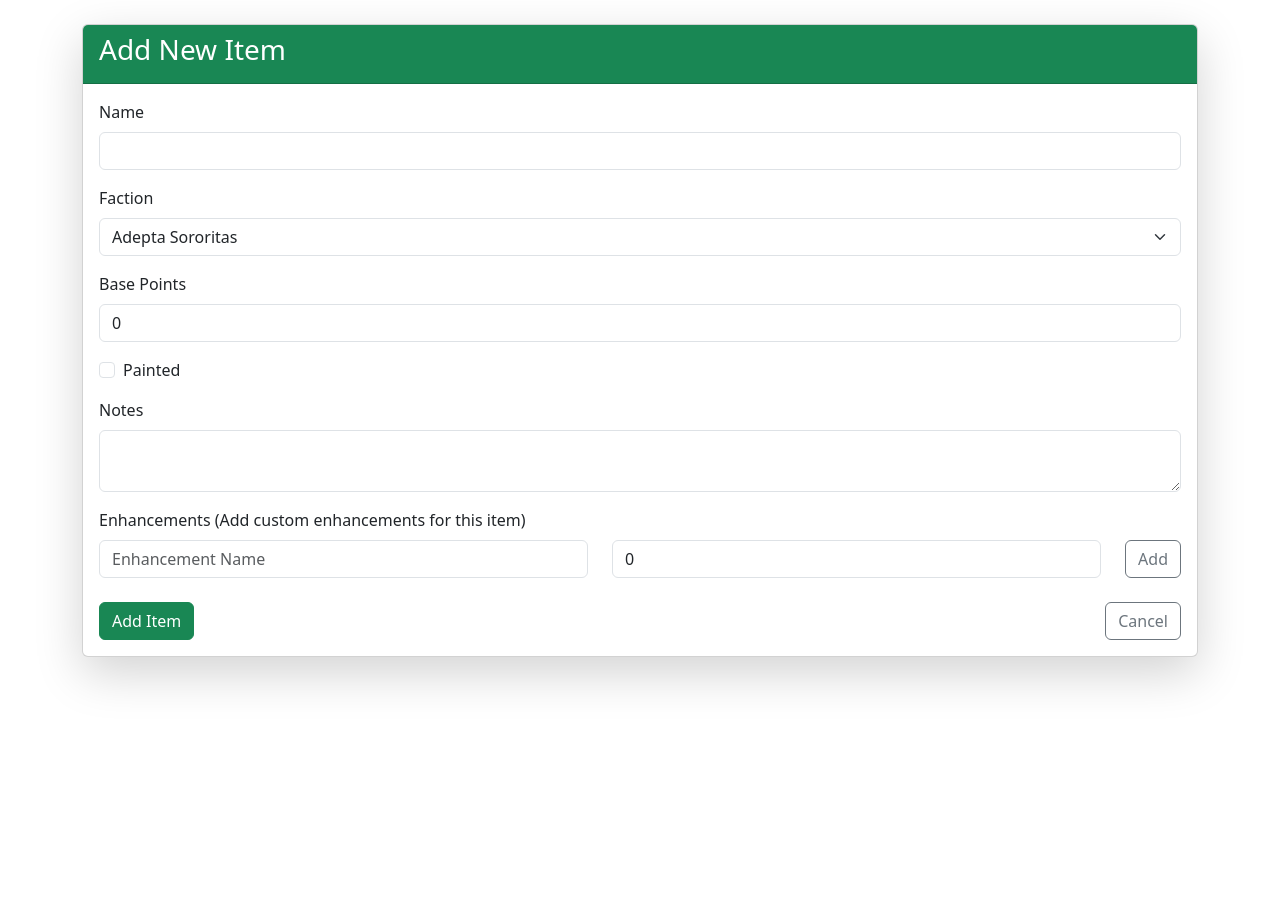
AddItemForm › can add enhancements
# Add first enhancement
Type "Power Sword" into the field with placeholder "Enhancement Name".
click(344, 559); type("Power Sword")  # box [99,540,588,578]
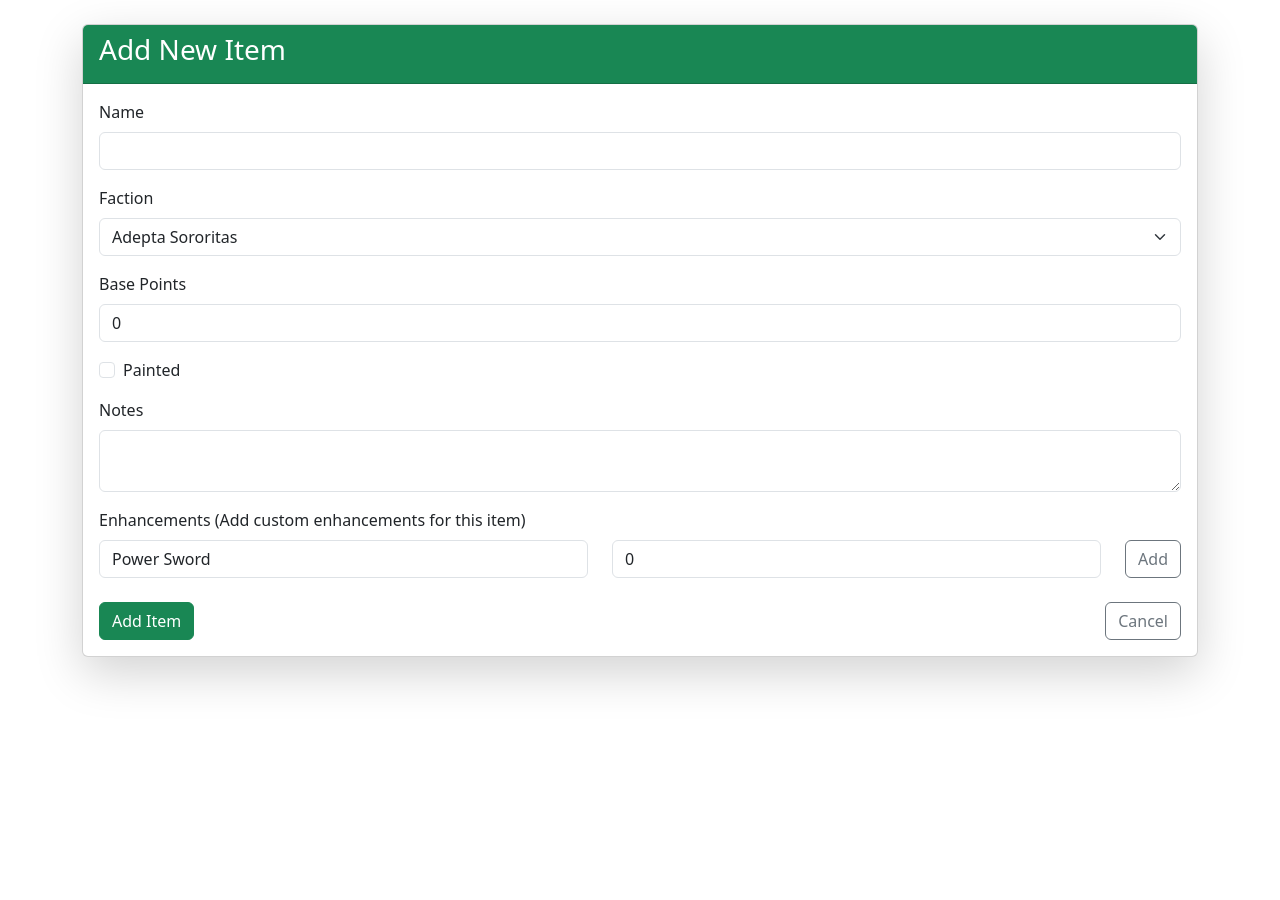
Replace the text in the number field with placeholder "Points" with "15" at [856, 559], box [612,540,1101,578]
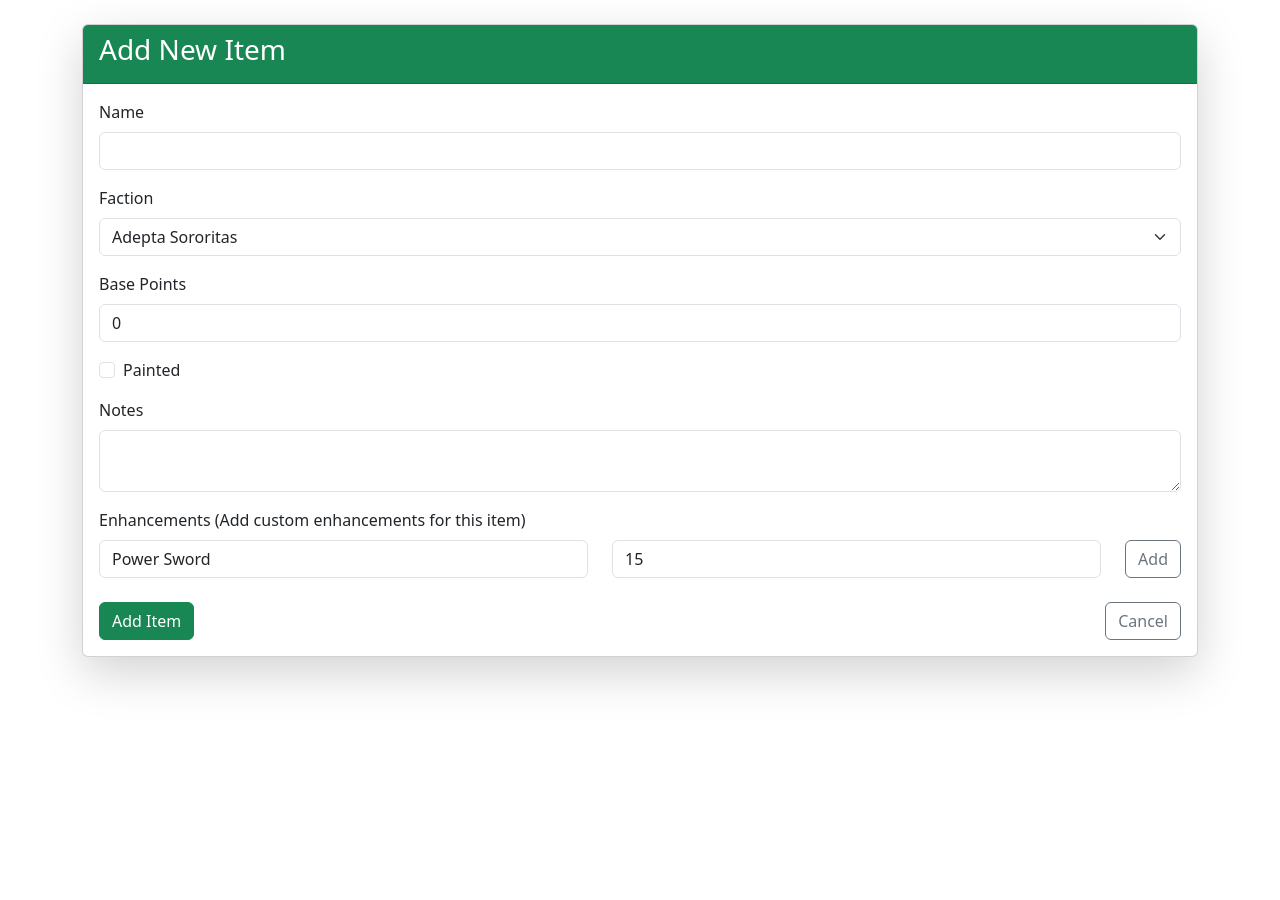
# exact match "Add"
Click the button "Add".
click(1153, 559)  # box [1125,540,1181,578]
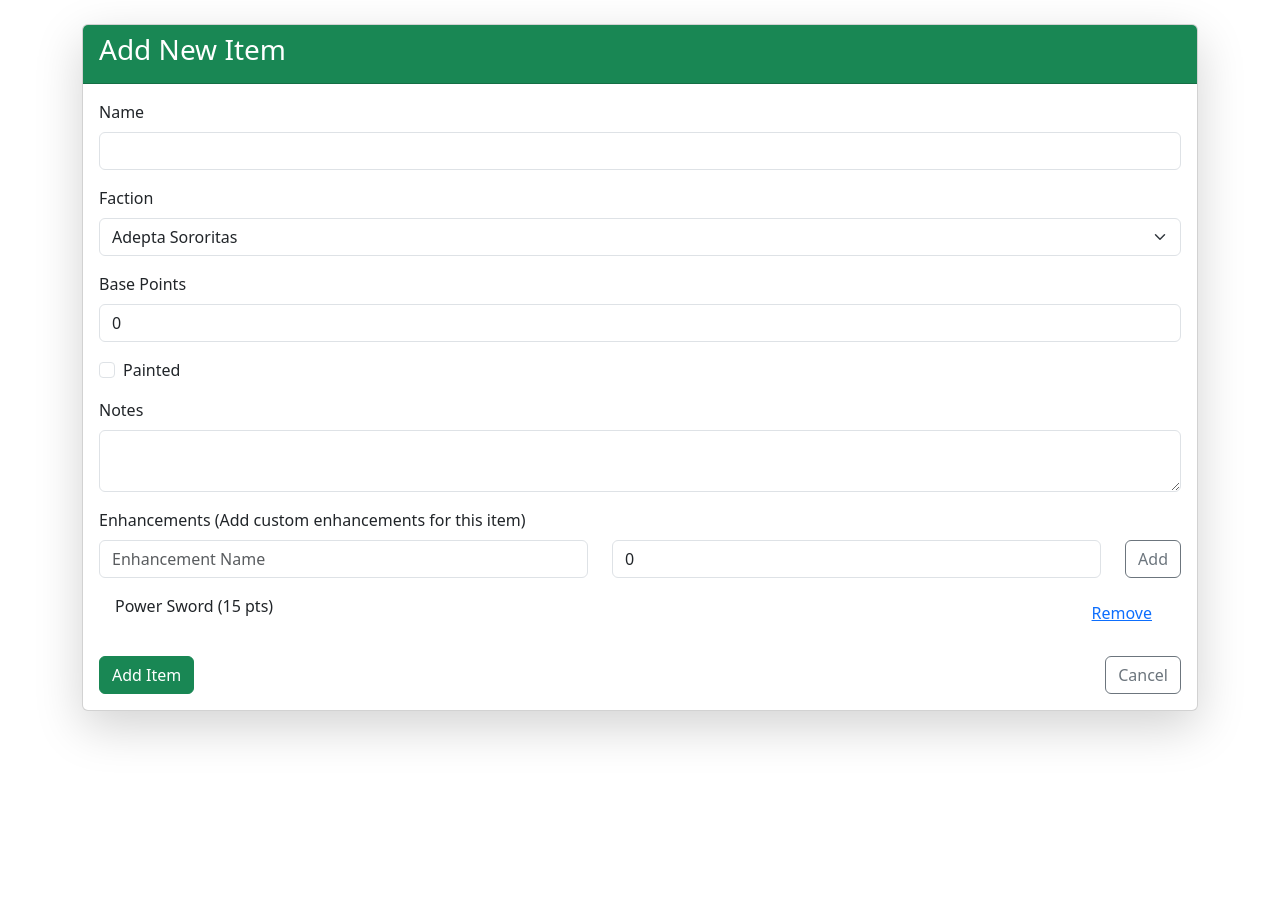
Check: the text "Power Sword (15 pts)" is shown, box [99,586,1181,640]
Check: the field with placeholder "Enhancement Name" is empty
Check: the number field with placeholder "Points" holds "0", box [612,540,1101,578]
# Add second enhancement
Type "Storm Shield" into the field with placeholder "Enhancement Name".
click(344, 559); type("Storm Shield")  # box [99,540,588,578]
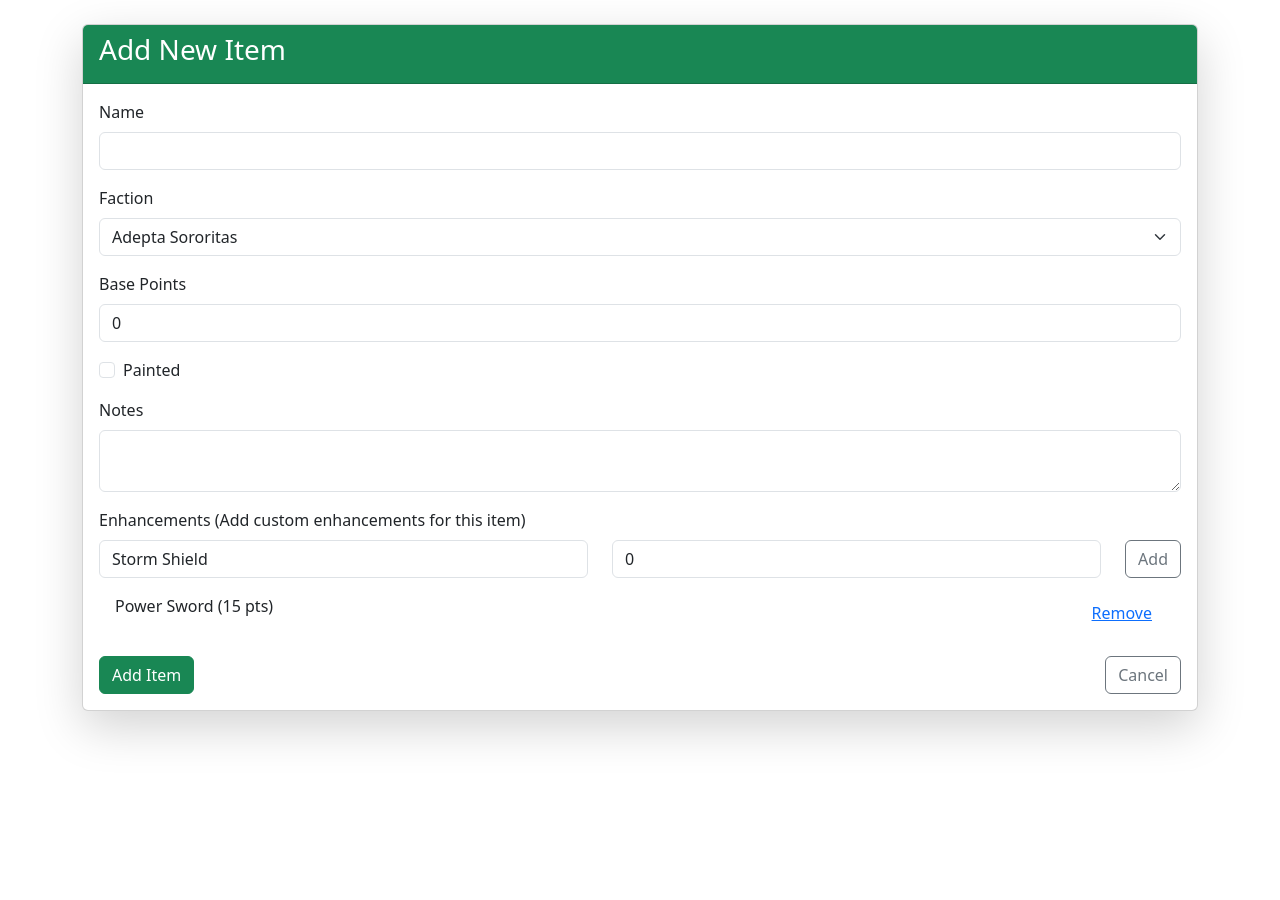
Replace the text in the number field with placeholder "Points" with "10" at [856, 559], box [612,540,1101,578]
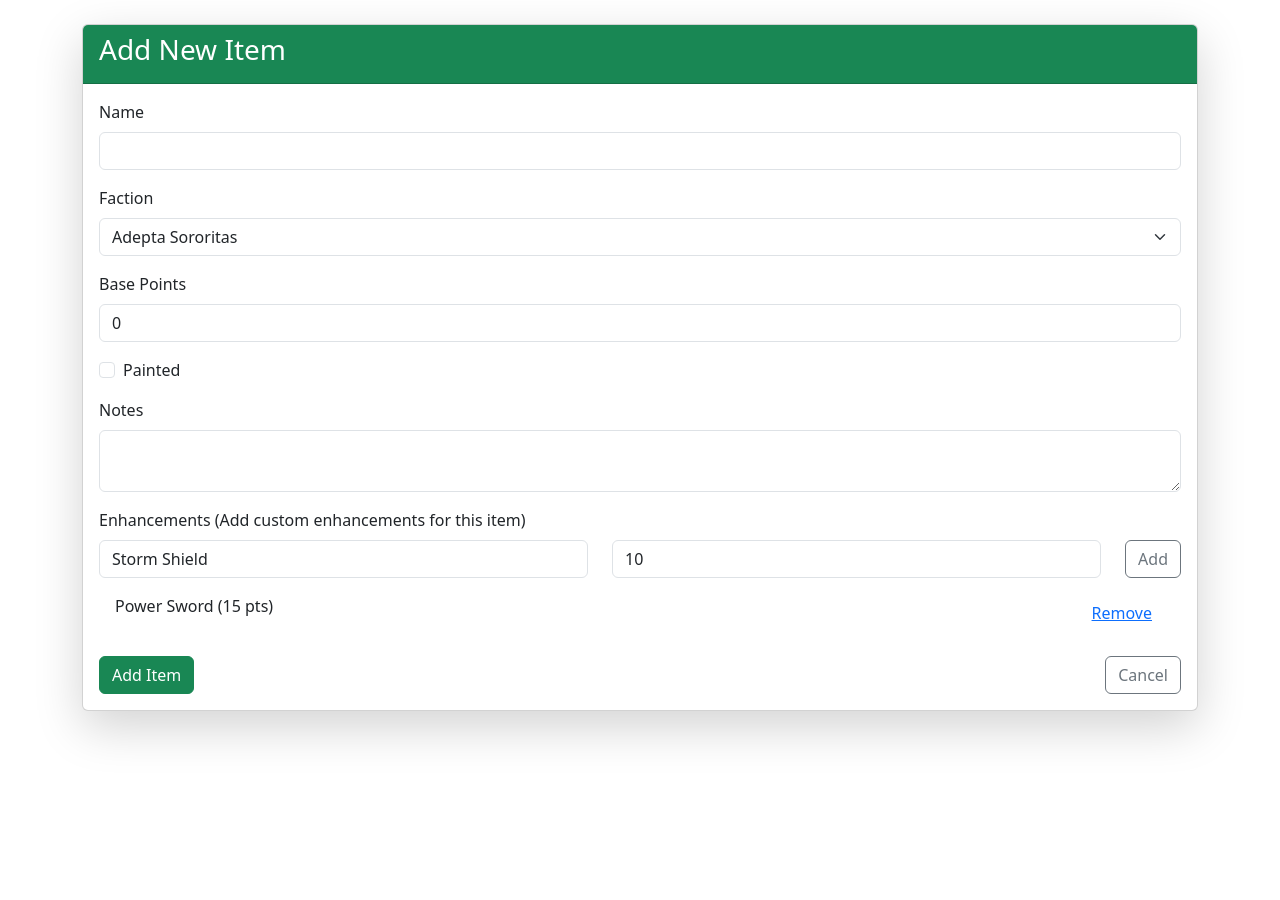
Click the button "Add".
click(1153, 559)  # box [1125,540,1181,578]
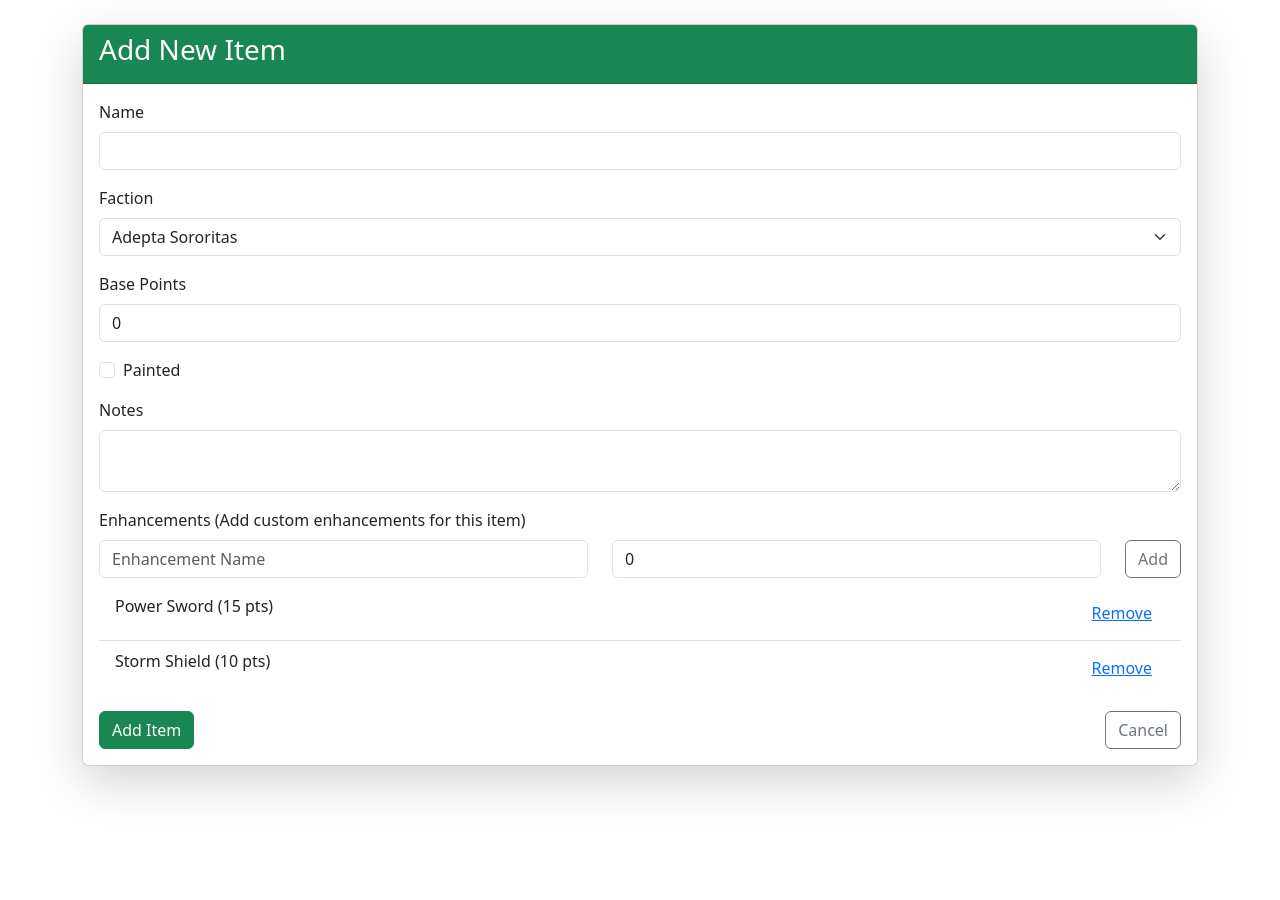
Check: the text "Storm Shield (10 pts)" is shown, box [99,641,1181,695]
